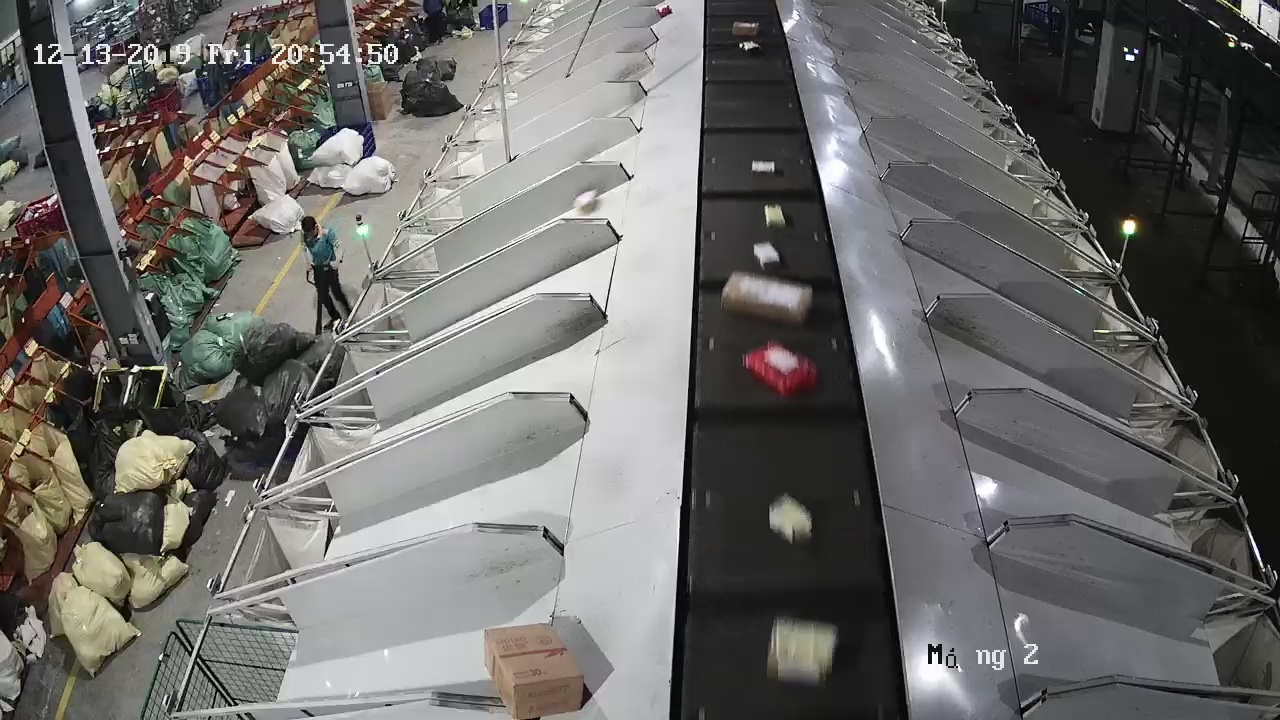parcel: (572, 188, 599, 213)
